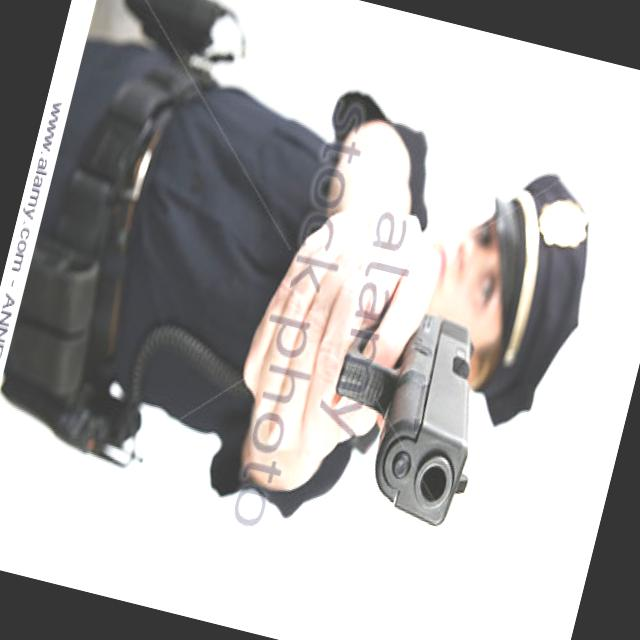handgun: (306, 290, 512, 538)
